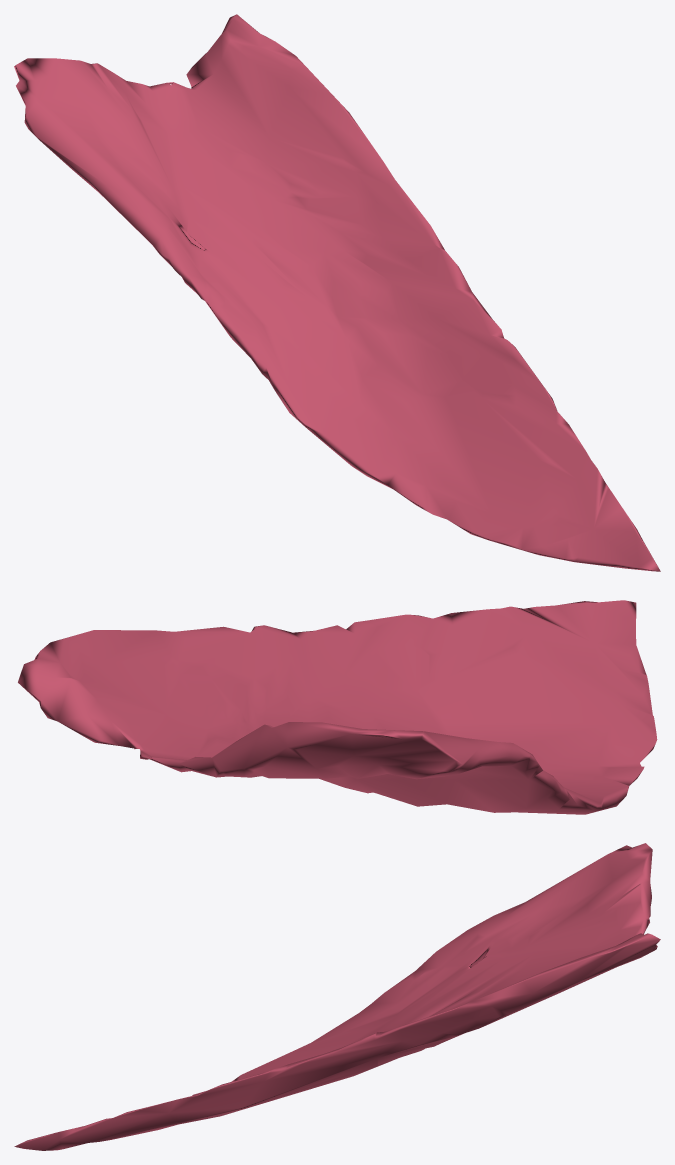
3 renders of one model, top to bottom at view 1: azimuth 30°, elevation 25°; view 2: azimuth 150°, elevation 25°; view 3: azimuth 270°, elevation 25°, orthographic. The views are drawn at different scales.
Parts seen in each view (by area): view 1: 右侧锥状肌; view 2: 右侧锥状肌; view 3: 右侧锥状肌.
Part boxes in pixels (left/top/right/bottom): 右侧锥状肌: left=14, top=14, right=660, bottom=571; 右侧锥状肌: left=18, top=600, right=657, bottom=814; 右侧锥状肌: left=14, top=843, right=660, bottom=1150.
Size of the model in its own units: 0.0411 by 0.0397 by 0.1057.
